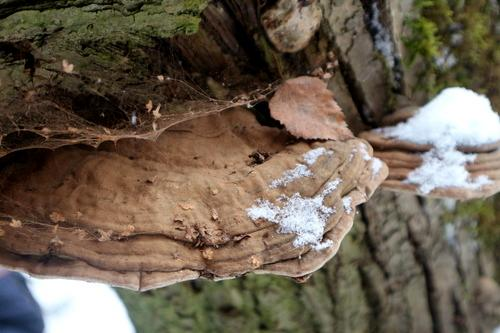Ganoderma - Fruit Body: (0, 112, 391, 292), (393, 112, 500, 201)
